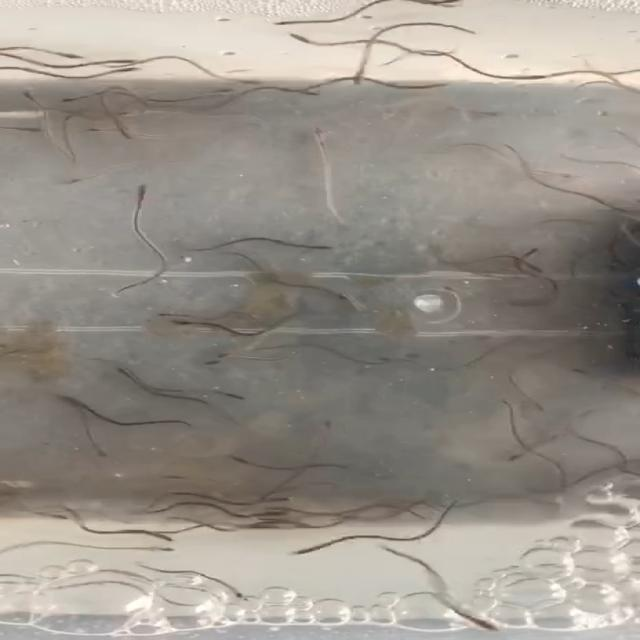active_glass_eel: (195, 358, 258, 385), (424, 84, 494, 106), (166, 318, 216, 346), (287, 29, 323, 62), (514, 399, 585, 413), (261, 14, 303, 34), (302, 414, 342, 434), (98, 358, 142, 376), (462, 617, 505, 635), (104, 104, 152, 120), (297, 82, 339, 100), (321, 239, 362, 257), (16, 86, 46, 110), (557, 168, 597, 186), (124, 178, 160, 197), (203, 446, 241, 464), (302, 121, 333, 141), (62, 94, 91, 114), (87, 125, 121, 142), (230, 74, 266, 90), (148, 304, 180, 320), (481, 396, 508, 414), (84, 451, 114, 467), (204, 344, 238, 358), (285, 542, 311, 560), (48, 388, 78, 403), (48, 509, 74, 526), (58, 175, 92, 188), (150, 532, 184, 544), (352, 70, 373, 89), (516, 242, 540, 258), (112, 67, 144, 78), (59, 48, 82, 62), (152, 547, 180, 558), (504, 451, 524, 462)
